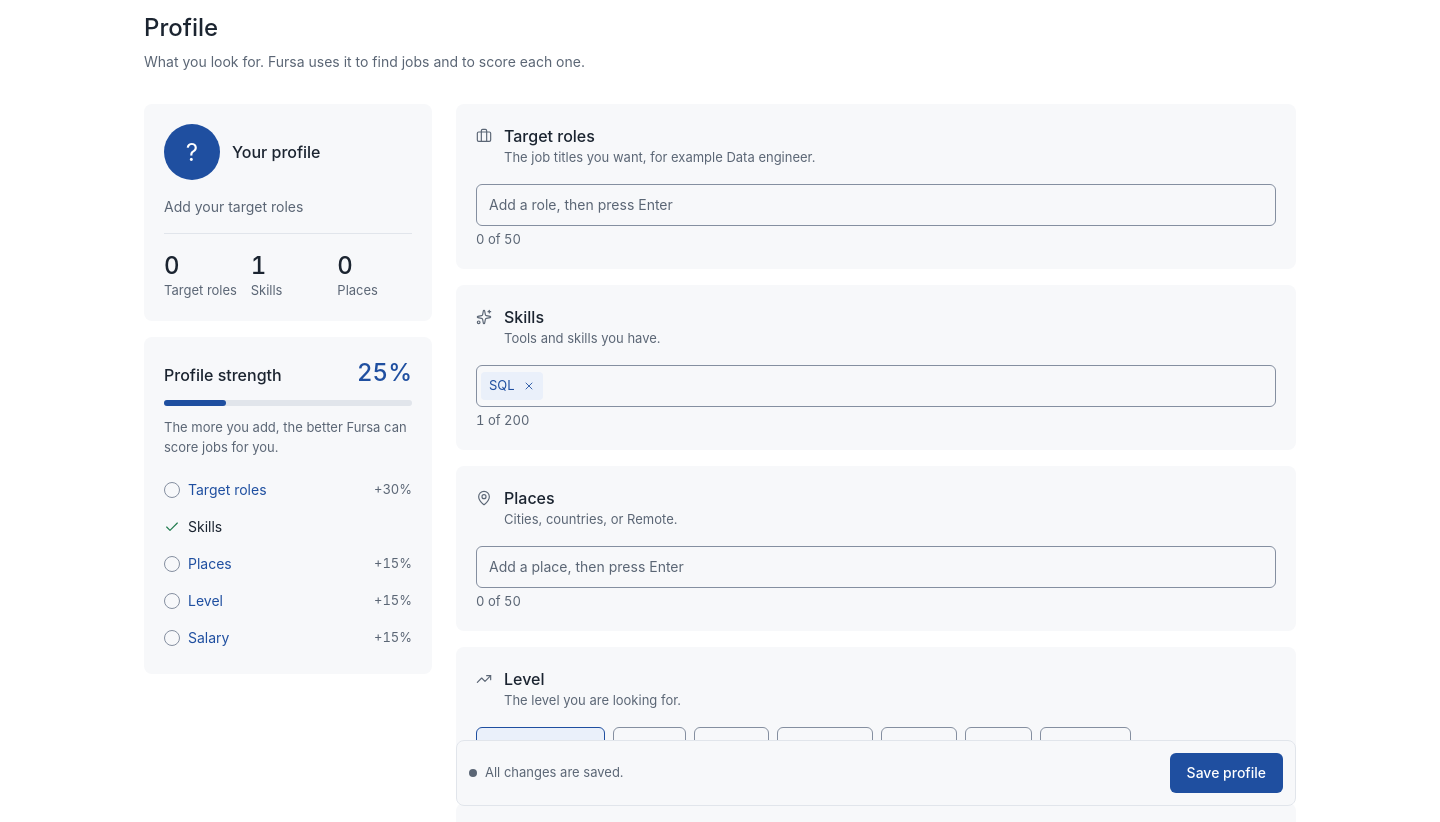
it: profile page › sends only the changed fields, then confirms with a toast
In the field named "Target roles": (876, 205) [481, 189, 1271, 221], type "Data engineer,"
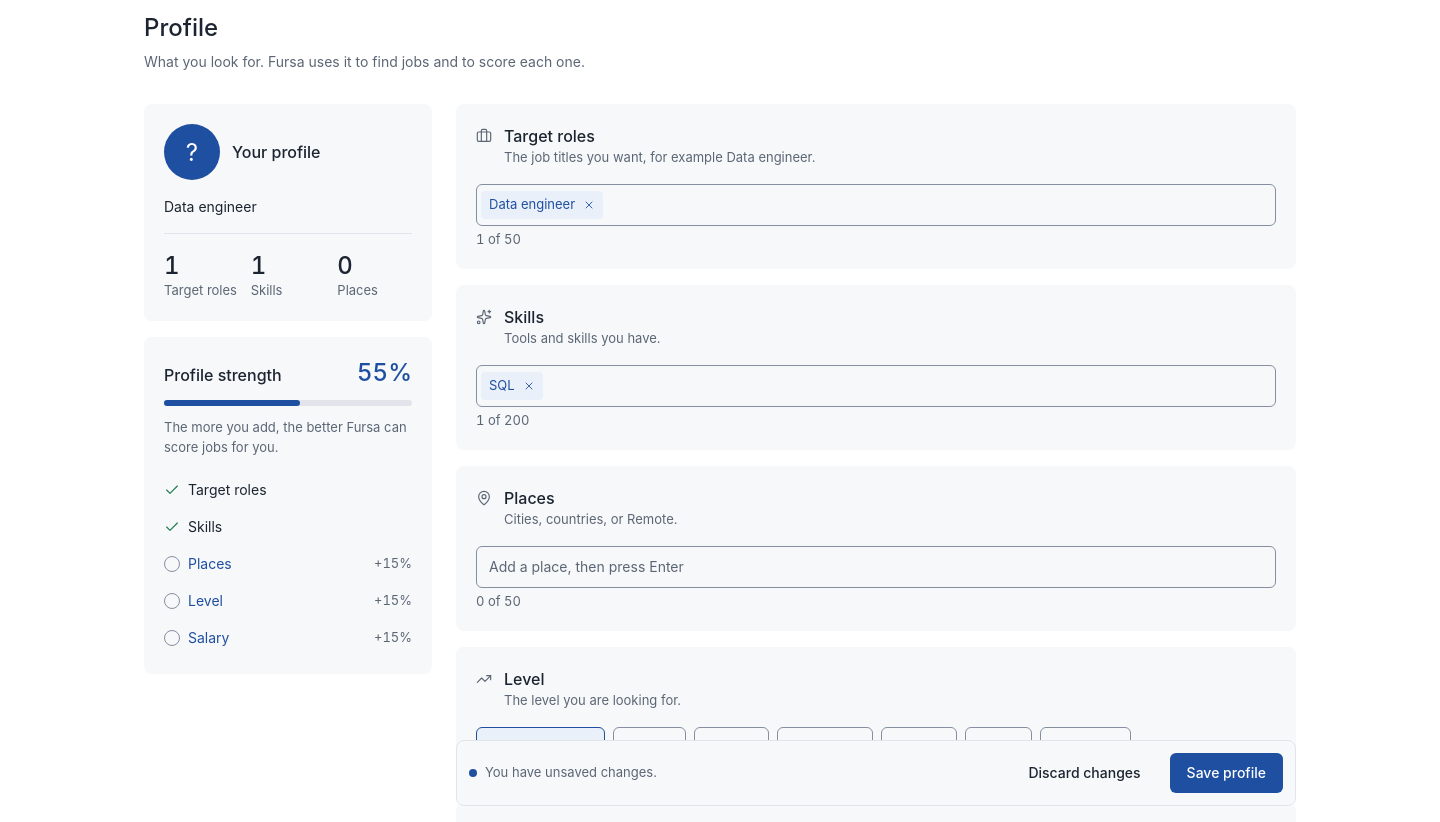
Click the button "Save profile": (1226, 773) [1170, 753, 1283, 793]
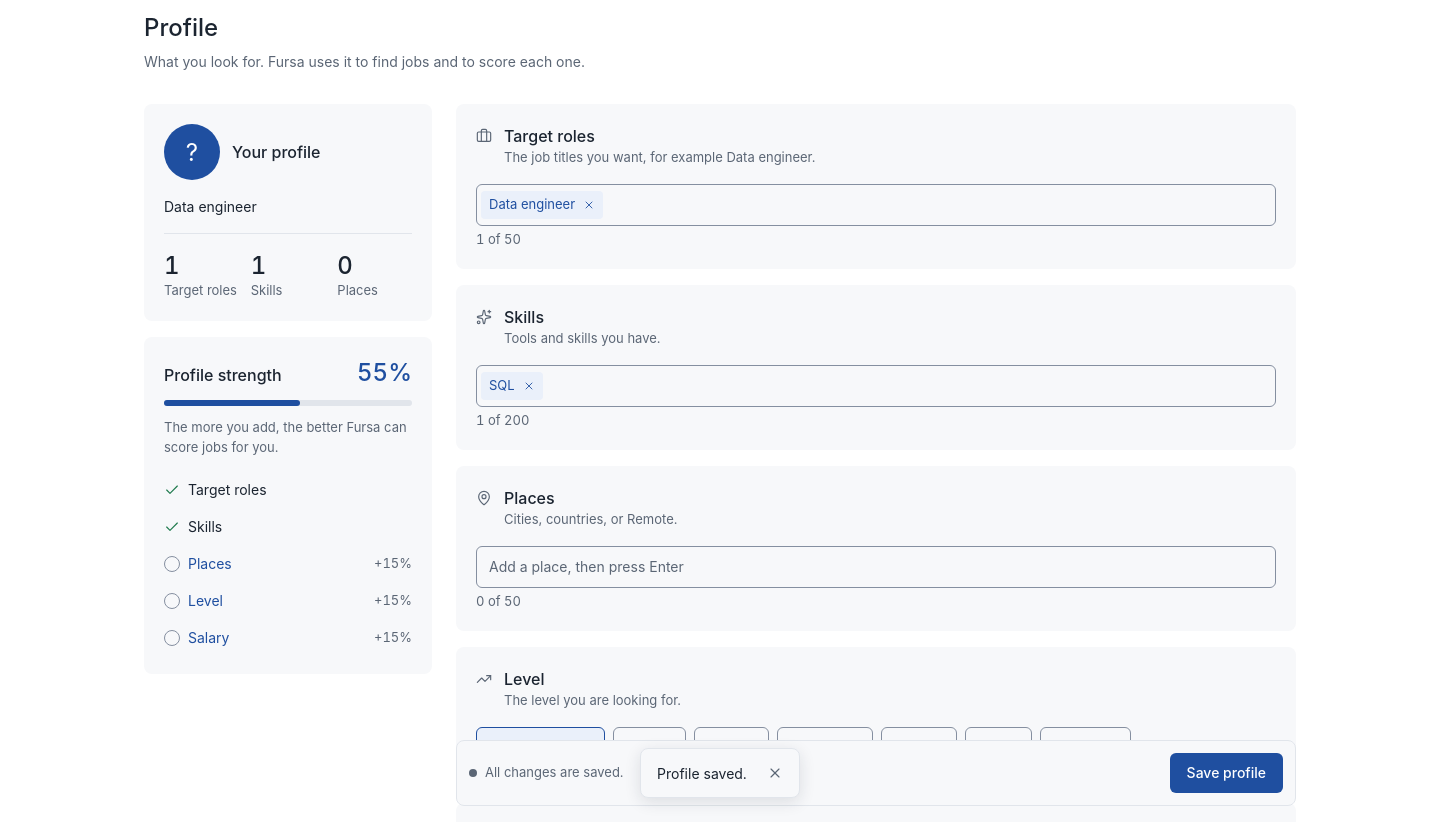
expect the text "Profile saved." is shown: met, box [657, 762, 747, 784]
